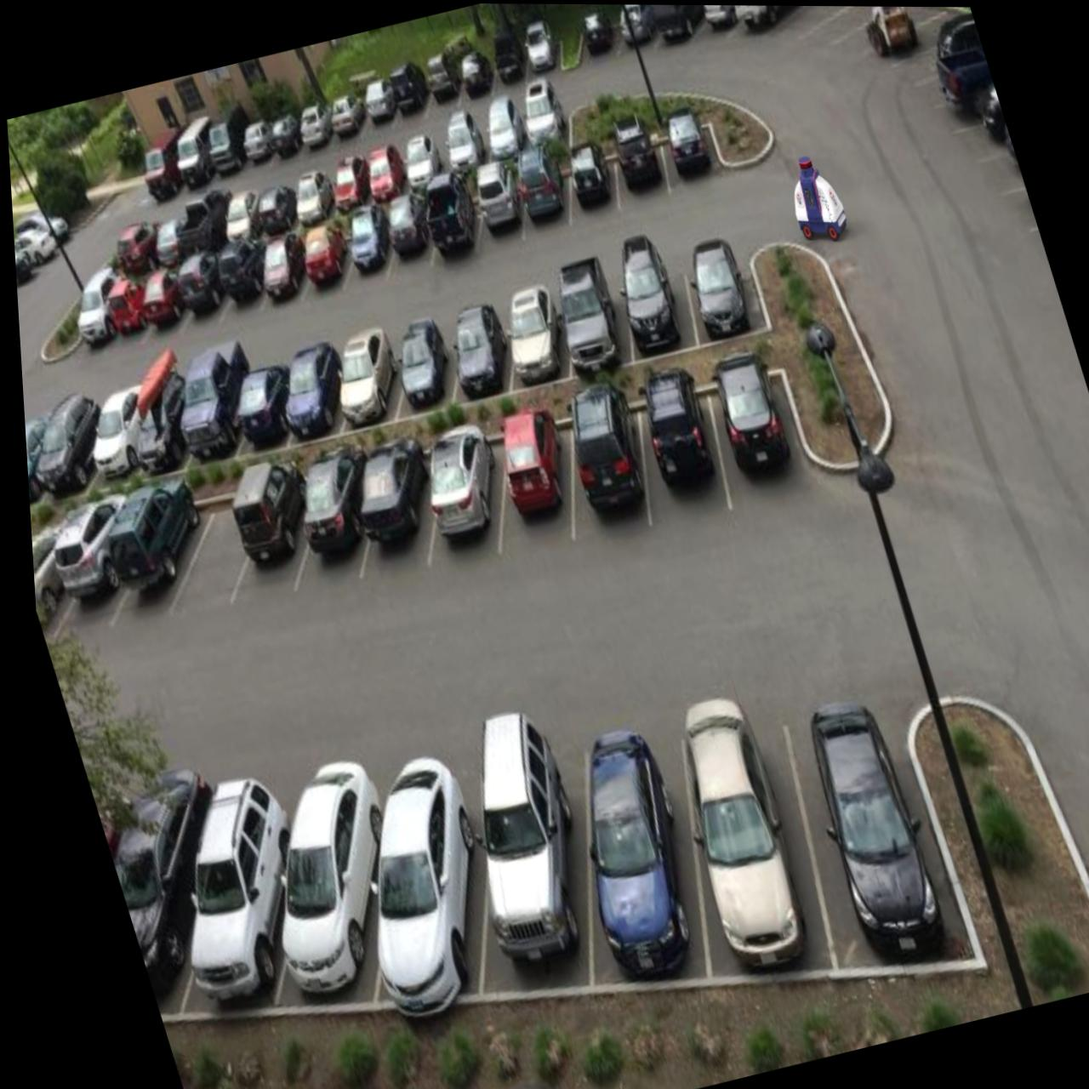cars: (310, 733, 528, 1024), (127, 750, 341, 1037), (534, 689, 734, 986), (425, 712, 627, 999), (778, 695, 960, 987), (225, 738, 421, 1006), (653, 704, 840, 975), (78, 727, 255, 998), (76, 453, 226, 645), (687, 343, 830, 535), (546, 362, 681, 560), (467, 394, 604, 576), (395, 412, 530, 595), (204, 442, 337, 625), (330, 426, 465, 606), (617, 353, 747, 538), (28, 465, 162, 642), (273, 436, 398, 612), (98, 341, 229, 486), (255, 322, 372, 454), (158, 333, 270, 468), (589, 228, 697, 363), (310, 311, 419, 443), (478, 260, 583, 396), (426, 277, 528, 414), (21, 358, 123, 495), (370, 297, 478, 426), (666, 226, 770, 359), (68, 352, 171, 483), (529, 244, 623, 372), (215, 338, 310, 461), (361, 166, 451, 278), (642, 86, 731, 198), (494, 129, 587, 232), (408, 160, 497, 267), (237, 216, 327, 319), (544, 116, 629, 225), (419, 93, 506, 195), (154, 178, 244, 270), (595, 110, 677, 210), (378, 101, 461, 194), (454, 155, 536, 245), (22, 379, 74, 517), (79, 197, 163, 280), (502, 4, 577, 94), (306, 65, 383, 152), (161, 241, 235, 331), (336, 59, 411, 147), (204, 166, 278, 255), (289, 210, 362, 300), (513, 76, 587, 164), (312, 134, 386, 222), (269, 146, 345, 230), (466, 83, 538, 170), (345, 123, 417, 206), (130, 185, 202, 268), (219, 102, 292, 182), (244, 89, 317, 168), (328, 203, 399, 283), (437, 27, 508, 105), (123, 259, 192, 339), (156, 112, 225, 192), (593, 4, 682, 66), (369, 47, 435, 128), (205, 238, 276, 313), (238, 169, 308, 244), (55, 273, 123, 350), (407, 31, 474, 109), (124, 131, 192, 206), (96, 268, 159, 346), (566, 4, 639, 70), (719, 5, 820, 52), (474, 8, 532, 89), (880, 7, 970, 58), (190, 108, 252, 178), (636, 5, 717, 55), (278, 84, 338, 150), (834, 6, 926, 46), (687, 5, 763, 44)
empty: (146, 458, 274, 637), (752, 6, 844, 57), (795, 6, 885, 47)
